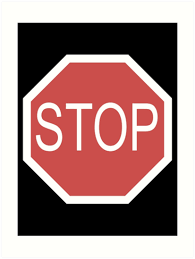Stop: (17, 52, 179, 209)
